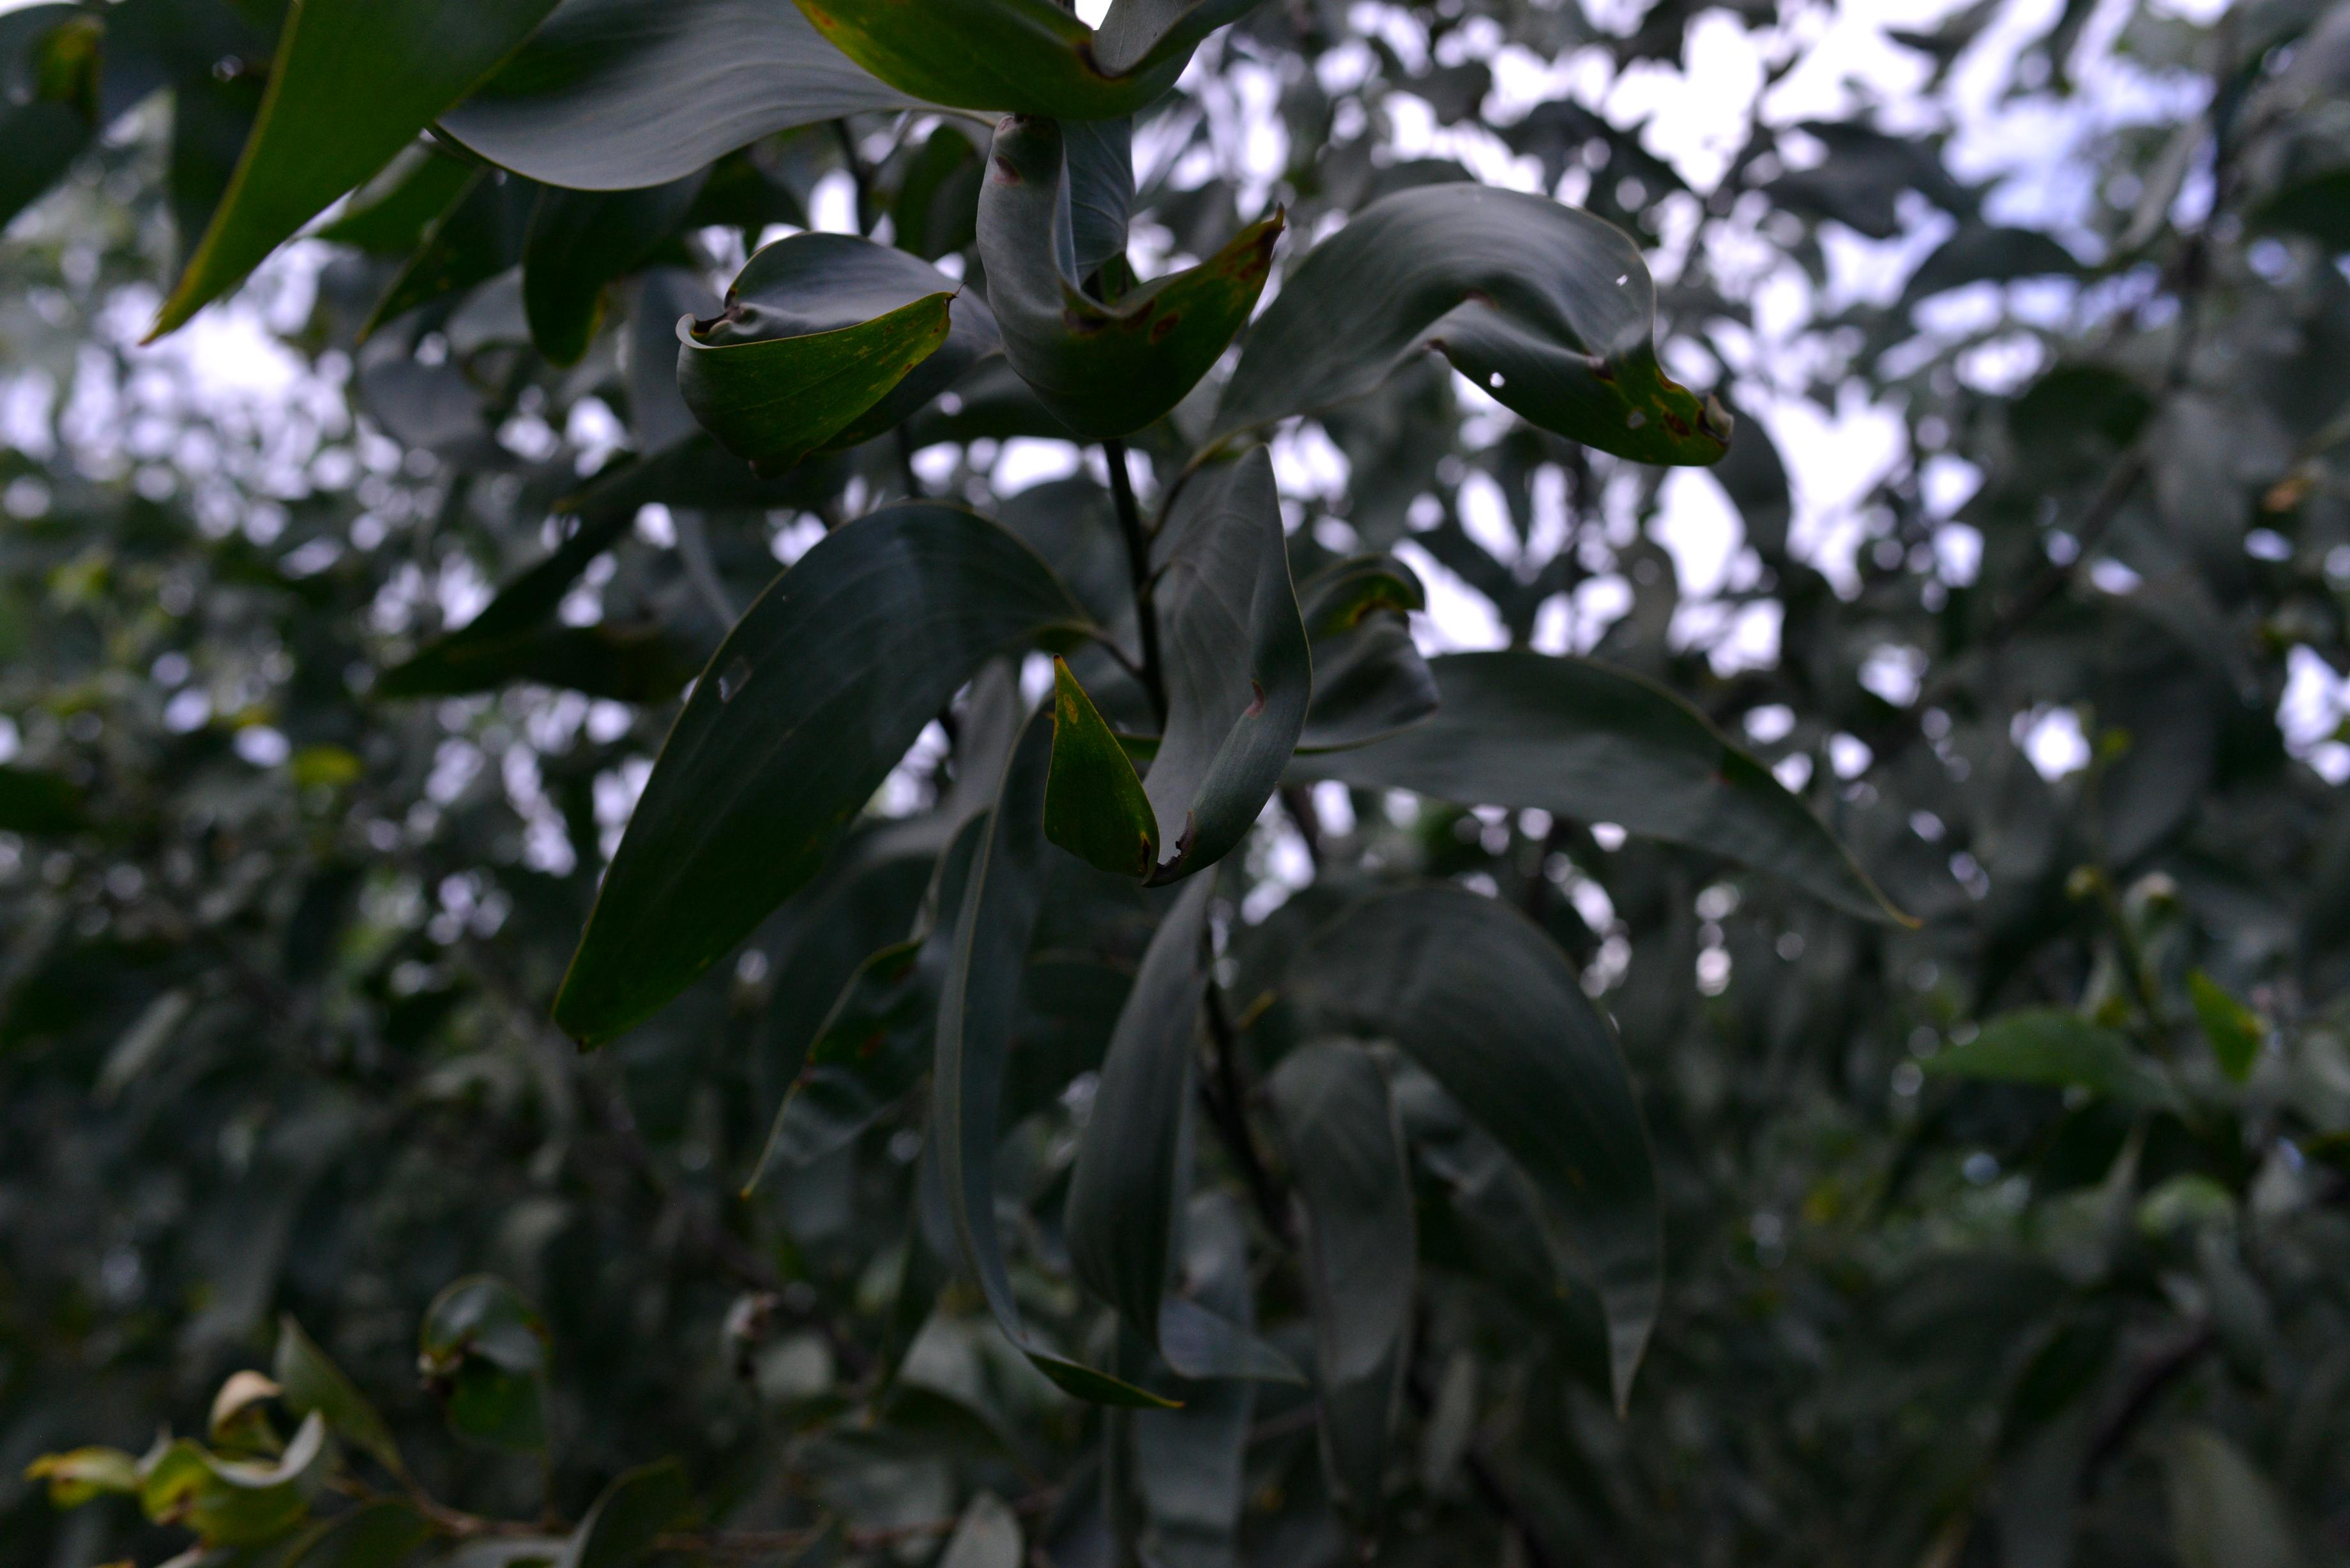Pasalora: (1064, 859, 1386, 1444), (1295, 161, 1753, 502), (990, 44, 1291, 448), (1102, 478, 1297, 852), (684, 215, 969, 450), (180, 1300, 390, 1477), (1302, 563, 1489, 758), (425, 1262, 558, 1486), (135, 1428, 350, 1547), (723, 1293, 840, 1405), (23, 1440, 136, 1510)
